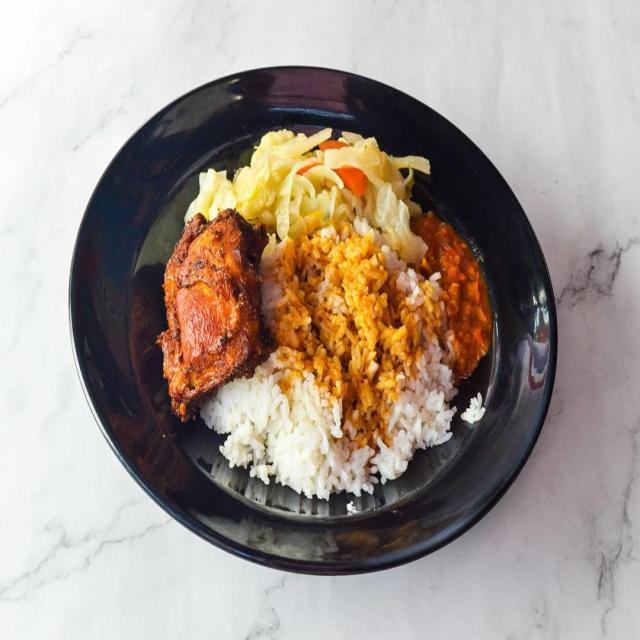Chicken: (158, 208, 278, 428)
Plate: (70, 67, 556, 574)
Rice: (200, 213, 462, 508)
Vegetables: (184, 130, 434, 271)
